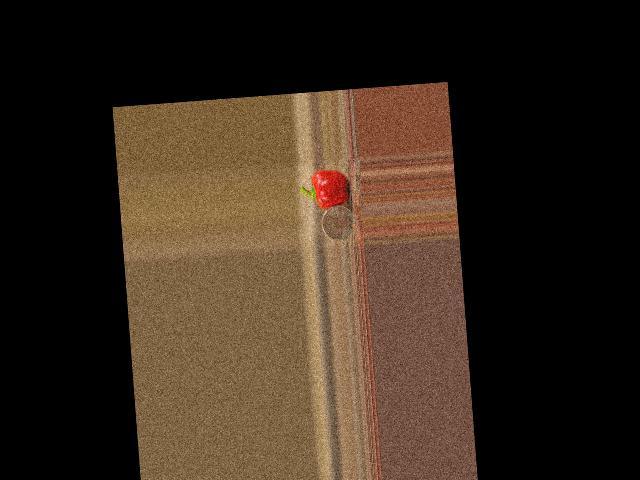bell_pepper: (299, 167, 351, 209)
